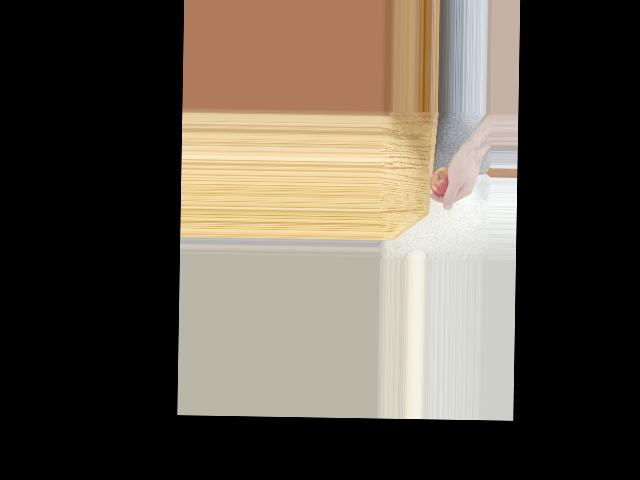apple: (428, 165, 454, 198)
